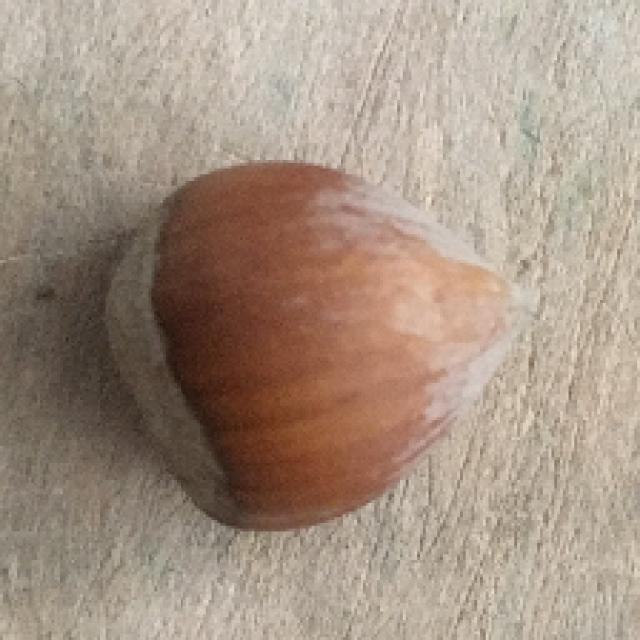qualityHazelnut: (102, 159, 543, 533)
